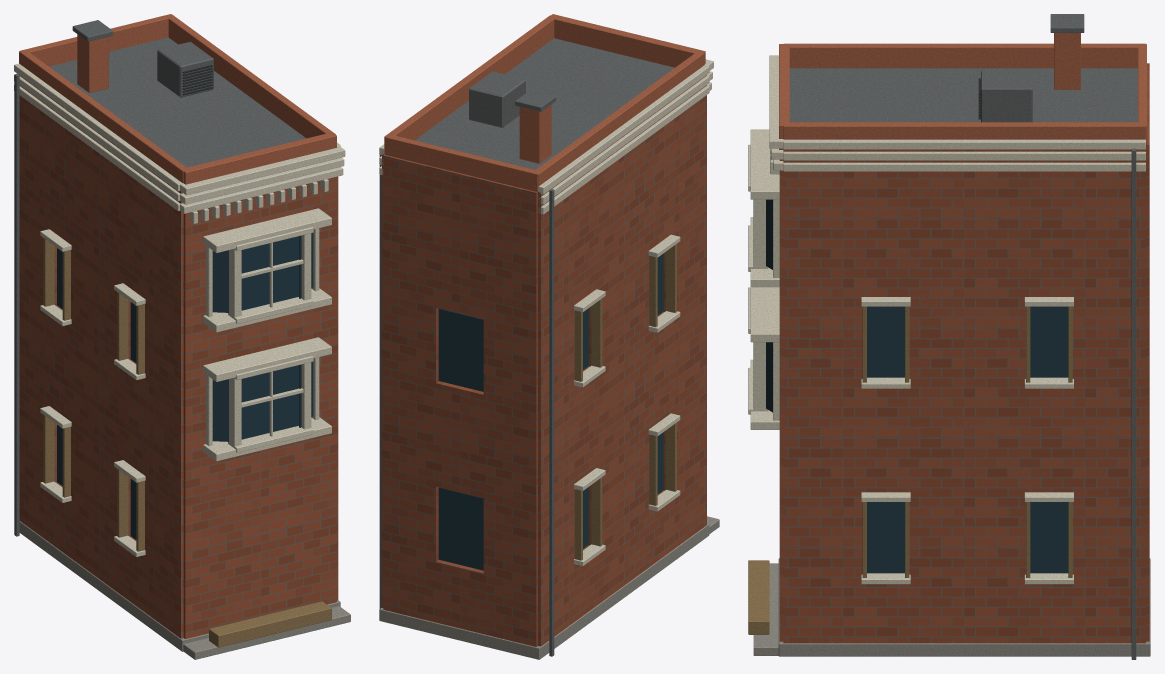
The model's file is VICT17_lod1.glb.
3 views of the same model, side by side, from view 1: azimuth 30°, elevation 25°; view 2: azimuth 150°, elevation 25°; view 3: azimuth 270°, elevation 25° (orthographic). The views are drawn at different scales.
Parts seen in each view (by area): view 1: VICT17_LOD1; view 2: VICT17_LOD1; view 3: VICT17_LOD1.
Part boxes in pixels (x1,y1,x2,y2): VICT17_LOD1: (14, 14, 350, 659); VICT17_LOD1: (379, 14, 719, 659); VICT17_LOD1: (748, 14, 1150, 659).
Bounding box in the file's own units: 3.71 × 10.45 × 6.65.
9 materials, 7 textured.
